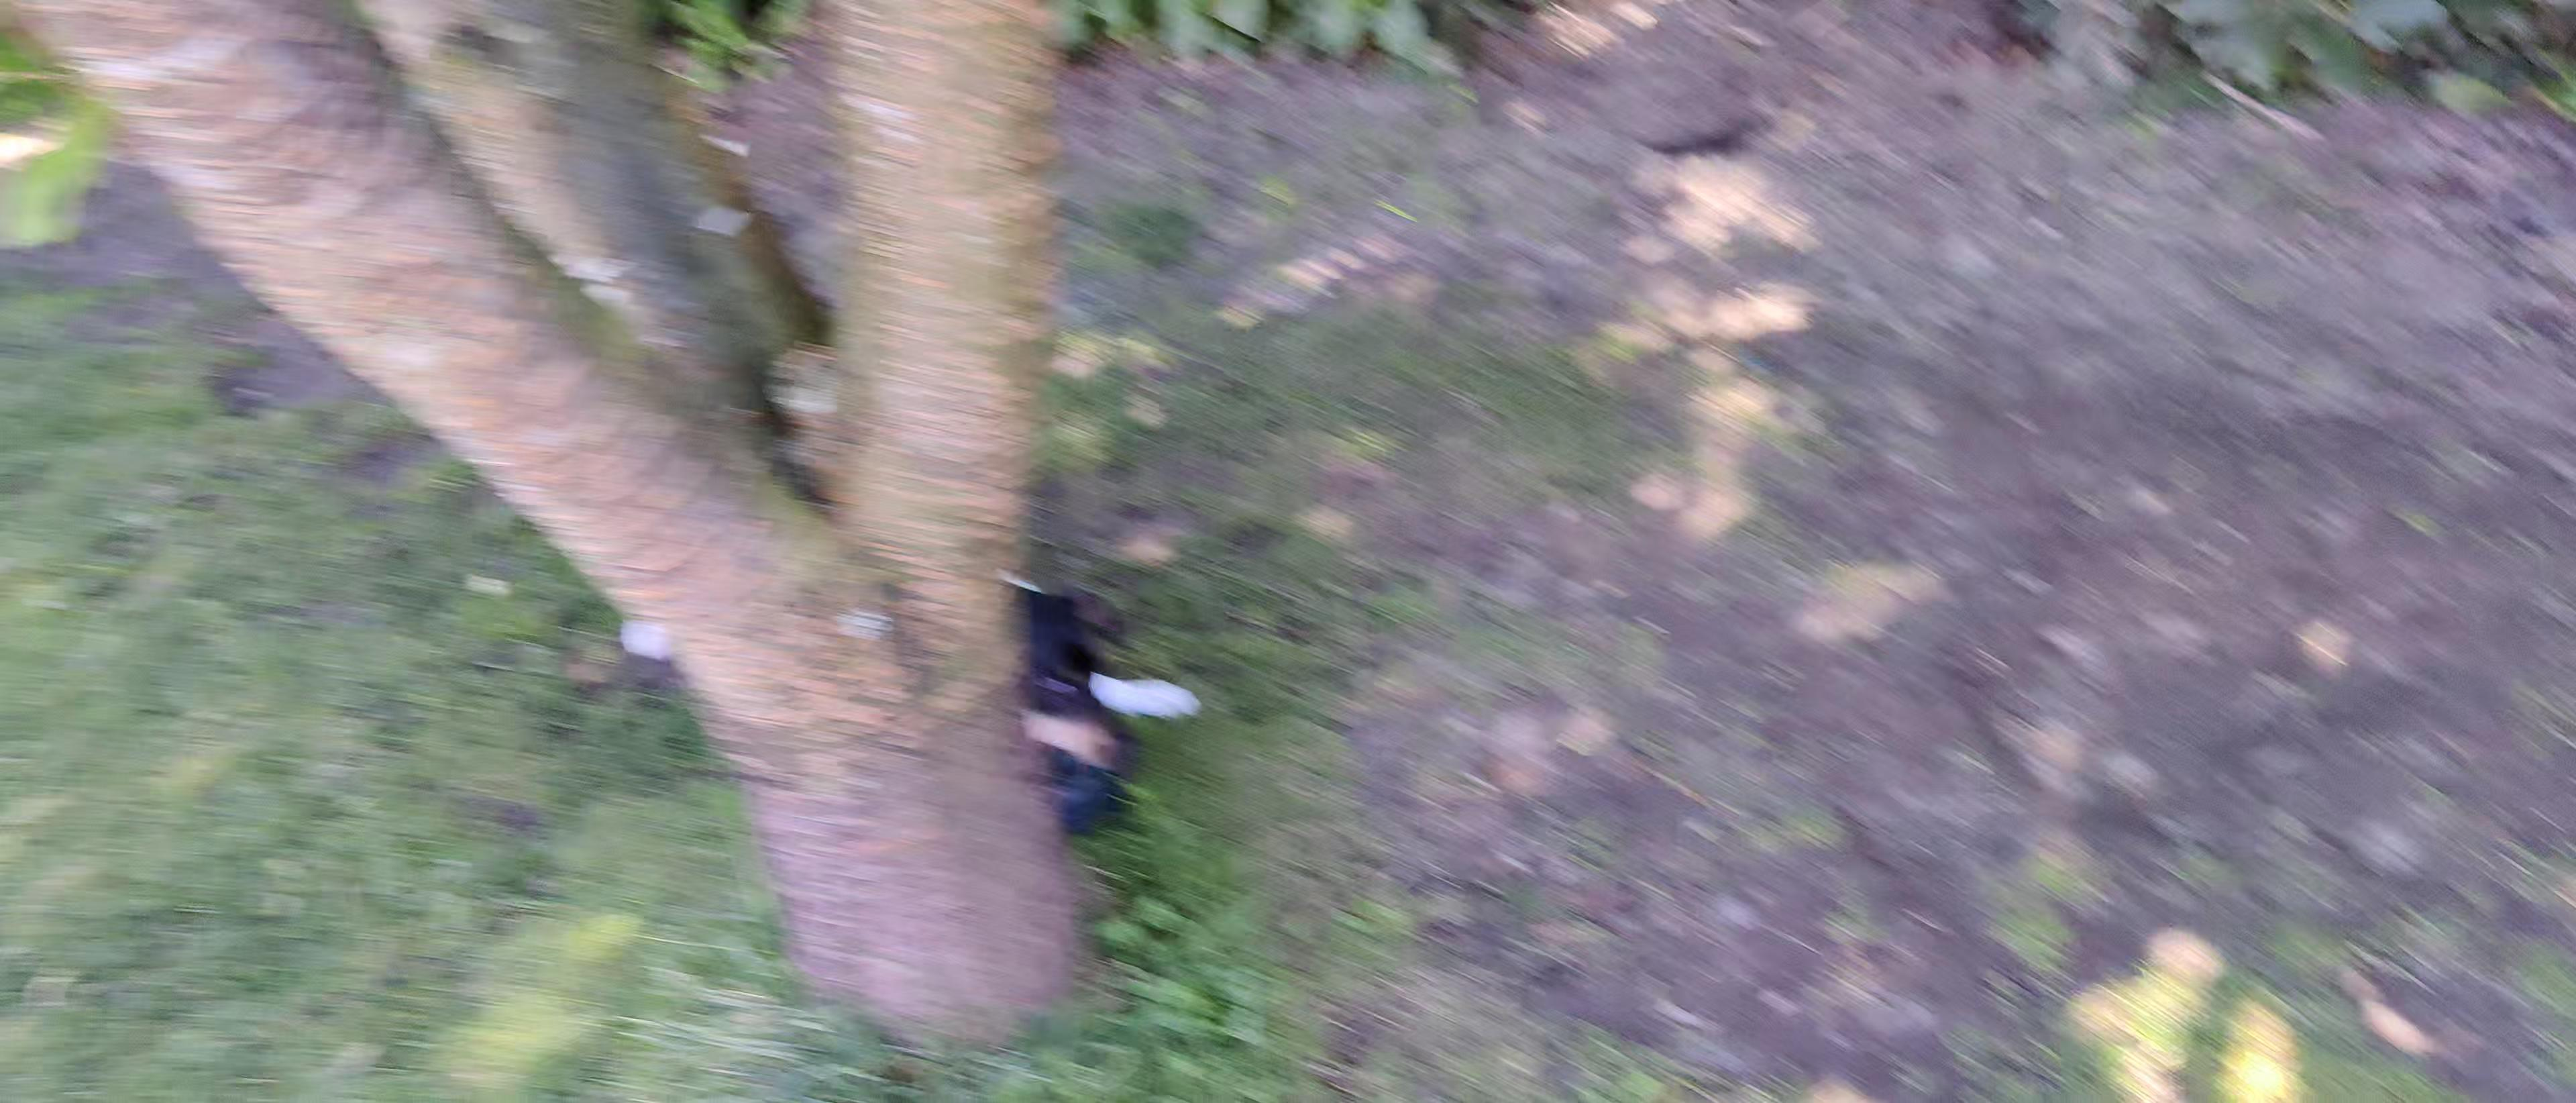Dog: (614, 569, 1206, 778)
